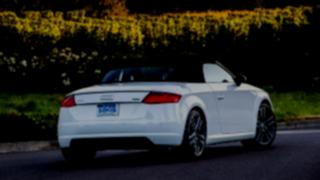Audi: (97, 92, 118, 104)
